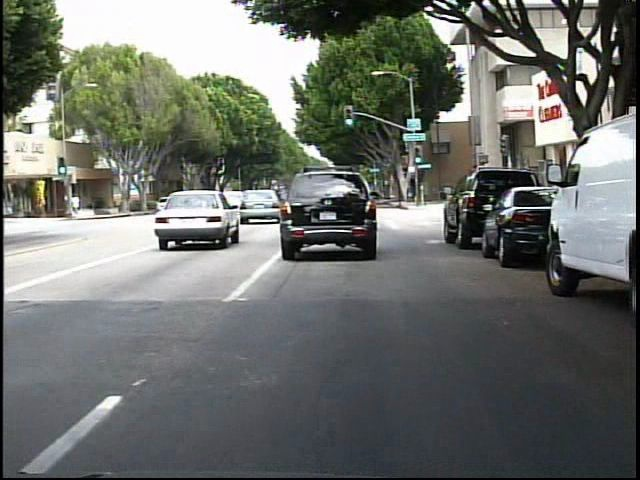person: (73, 192, 84, 219)
